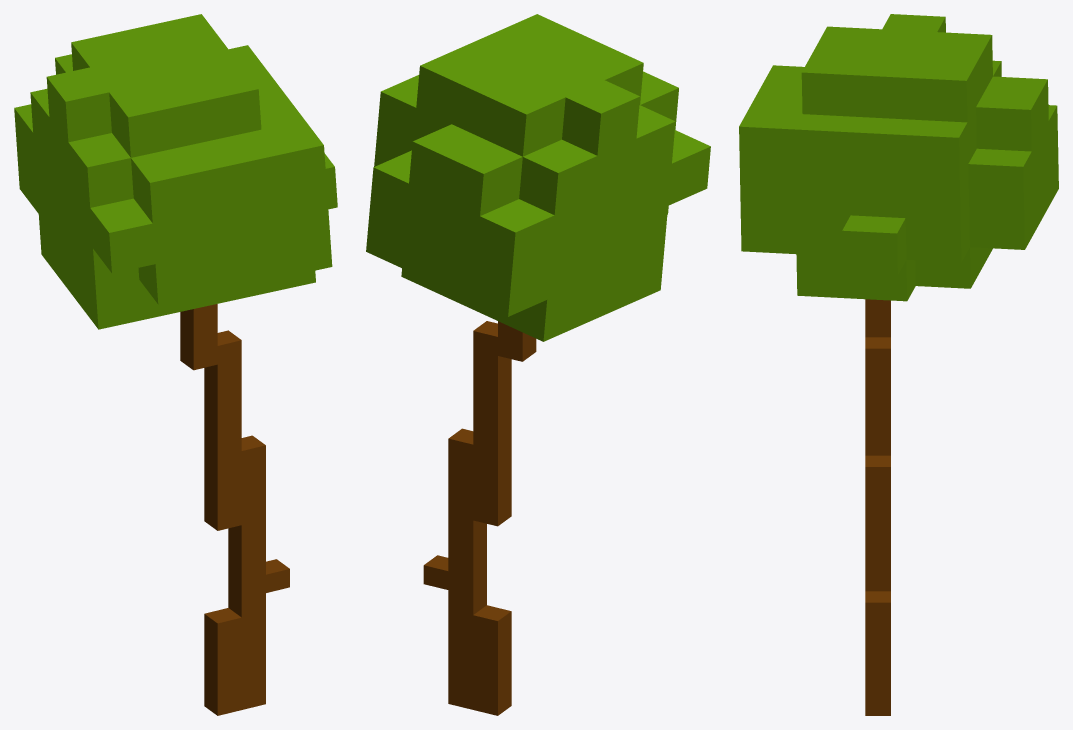
File: Blockytree_02_green.glb
The picture shows the model from 3 angles, left to right: view 1: azimuth 30°, elevation 25°; view 2: azimuth 150°, elevation 25°; view 3: azimuth 270°, elevation 25°; orthographic projection. The views are drawn at different scales.
Visible parts, largest first — view 1: Blockytree_02_green_Wood_0; view 2: Blockytree_02_green_Wood_0; view 3: Blockytree_02_green_Wood_0.
Part boxes in pixels (x1=…): Blockytree_02_green_Wood_0: x1=14, y1=14, x2=337, y2=715; Blockytree_02_green_Wood_0: x1=366, y1=14, x2=710, y2=715; Blockytree_02_green_Wood_0: x1=739, y1=14, x2=1058, y2=715.
Bounding box in the file's own units: 3.93 × 9.1 × 4.19.
